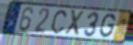2: (33, 8, 50, 35)
3: (83, 10, 100, 38)
6: (18, 6, 34, 34)
C: (50, 9, 68, 35)
G: (98, 13, 117, 39)
X: (64, 9, 87, 37)
